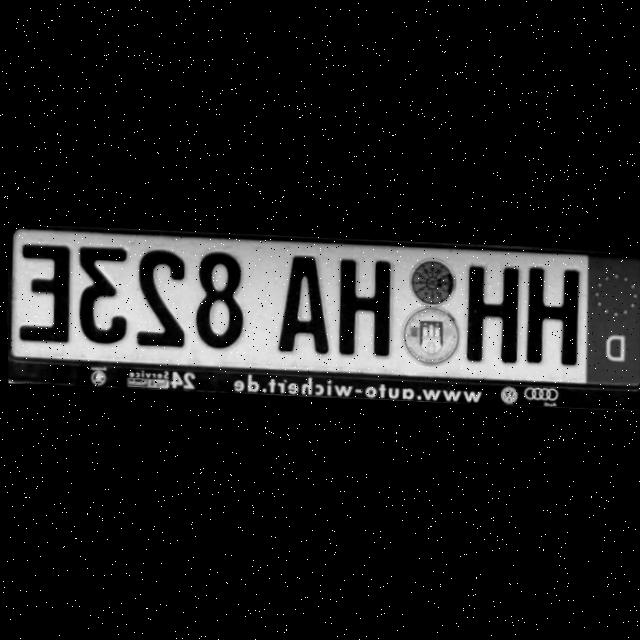license-plates: (9, 229, 640, 388)
